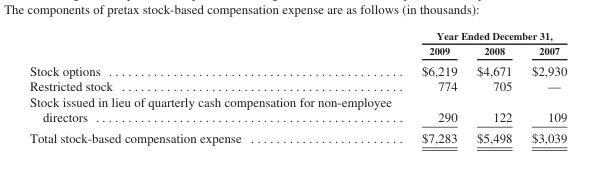table: (28, 29, 566, 144)
table column: (28, 29, 405, 144), (405, 29, 466, 144), (466, 29, 521, 144), (521, 29, 566, 144)
table column header: (28, 29, 566, 59)
table row: (28, 93, 566, 127), (28, 59, 566, 78), (28, 42, 566, 59), (28, 127, 566, 144), (28, 78, 566, 93), (28, 29, 566, 42)
table spanning cell: (405, 29, 566, 42)
